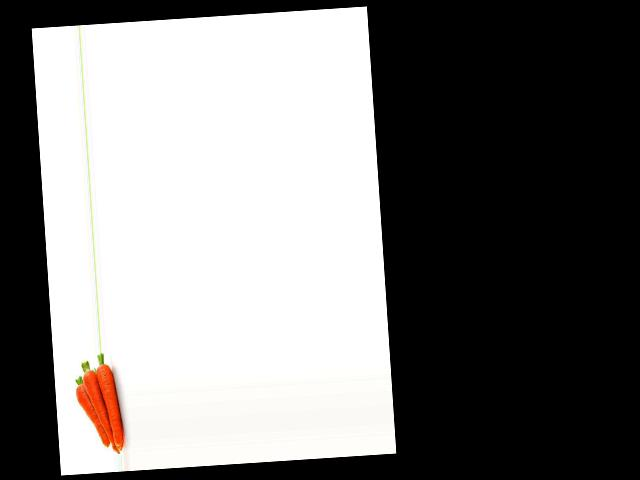carrot: (97, 357, 123, 451)
